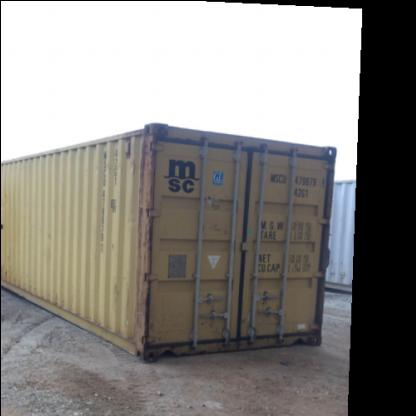Damage: (124, 128, 157, 346), (35, 282, 71, 312), (200, 216, 236, 245), (195, 314, 223, 342), (284, 313, 310, 335), (40, 218, 60, 242), (96, 142, 110, 166)
